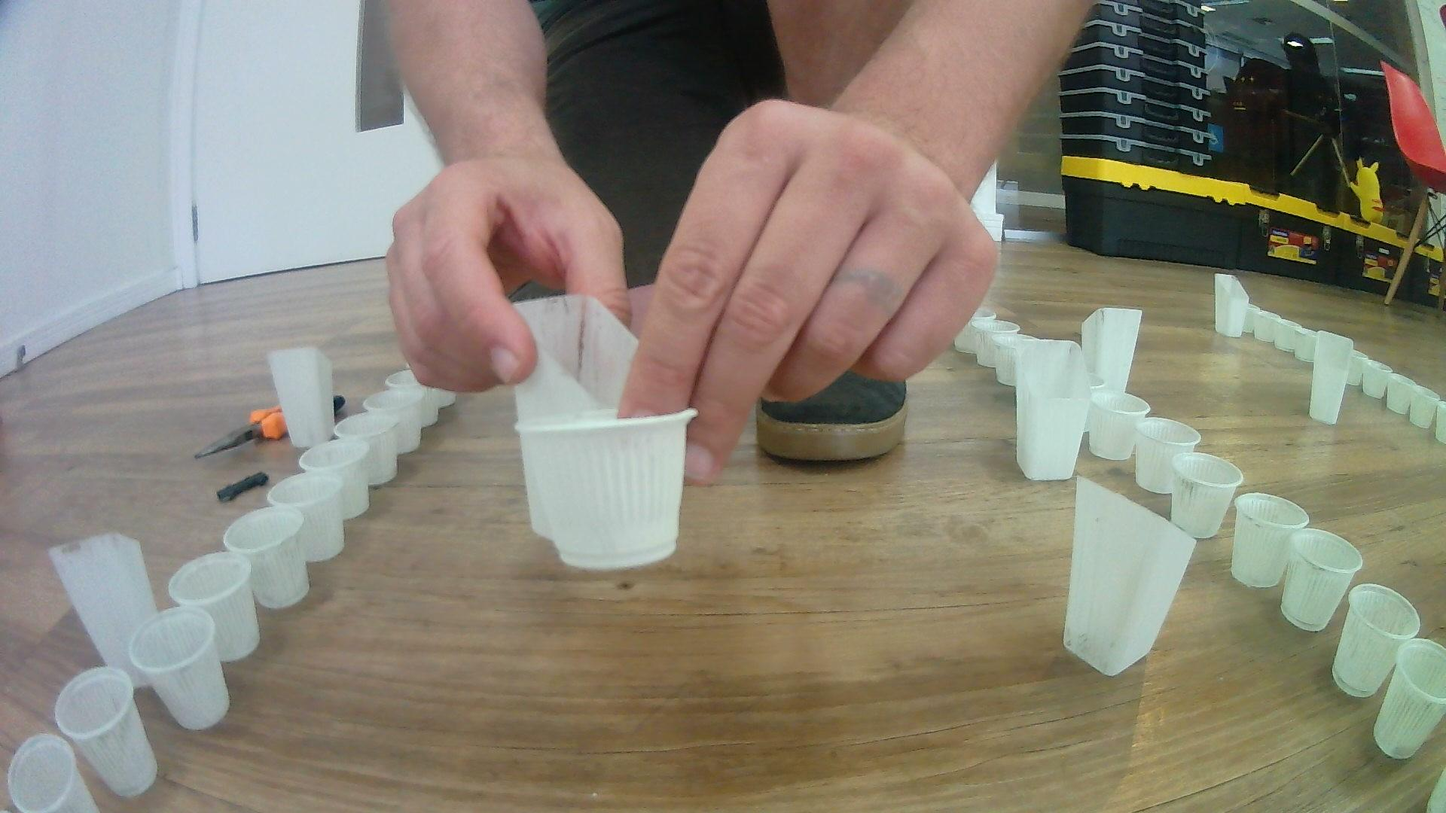erva_daninha: (1060, 472, 1197, 678), (48, 532, 160, 690), (1013, 338, 1092, 482), (265, 346, 336, 449), (1081, 307, 1143, 400), (1308, 330, 1356, 426), (1213, 274, 1249, 338)
planta: (512, 393, 702, 580), (54, 666, 158, 798), (127, 606, 232, 730), (166, 551, 262, 664), (1331, 583, 1421, 699), (223, 506, 312, 610), (1374, 638, 1446, 761), (1280, 528, 1364, 633), (1228, 492, 1310, 589), (266, 473, 349, 563), (5, 732, 97, 813), (1170, 452, 1243, 540), (298, 437, 372, 521), (1134, 417, 1203, 495), (332, 412, 401, 484), (1084, 393, 1151, 461), (362, 391, 423, 455), (386, 371, 441, 428), (953, 318, 1008, 355), (975, 327, 1022, 369), (1409, 385, 1442, 430), (1384, 373, 1418, 415), (994, 338, 1024, 385), (1362, 360, 1394, 399), (1245, 303, 1272, 342), (1270, 315, 1298, 352), (1293, 325, 1319, 361), (1346, 350, 1368, 387), (426, 384, 456, 410), (1434, 401, 1446, 444), (1086, 371, 1106, 394), (967, 311, 997, 324)
